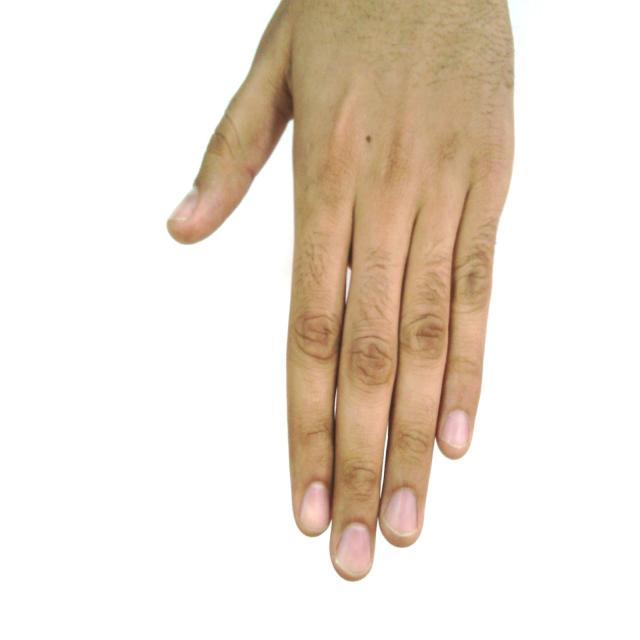Fingernail: (337, 524, 370, 576), (384, 488, 417, 535), (301, 483, 329, 532), (443, 411, 469, 448), (170, 189, 198, 221)
